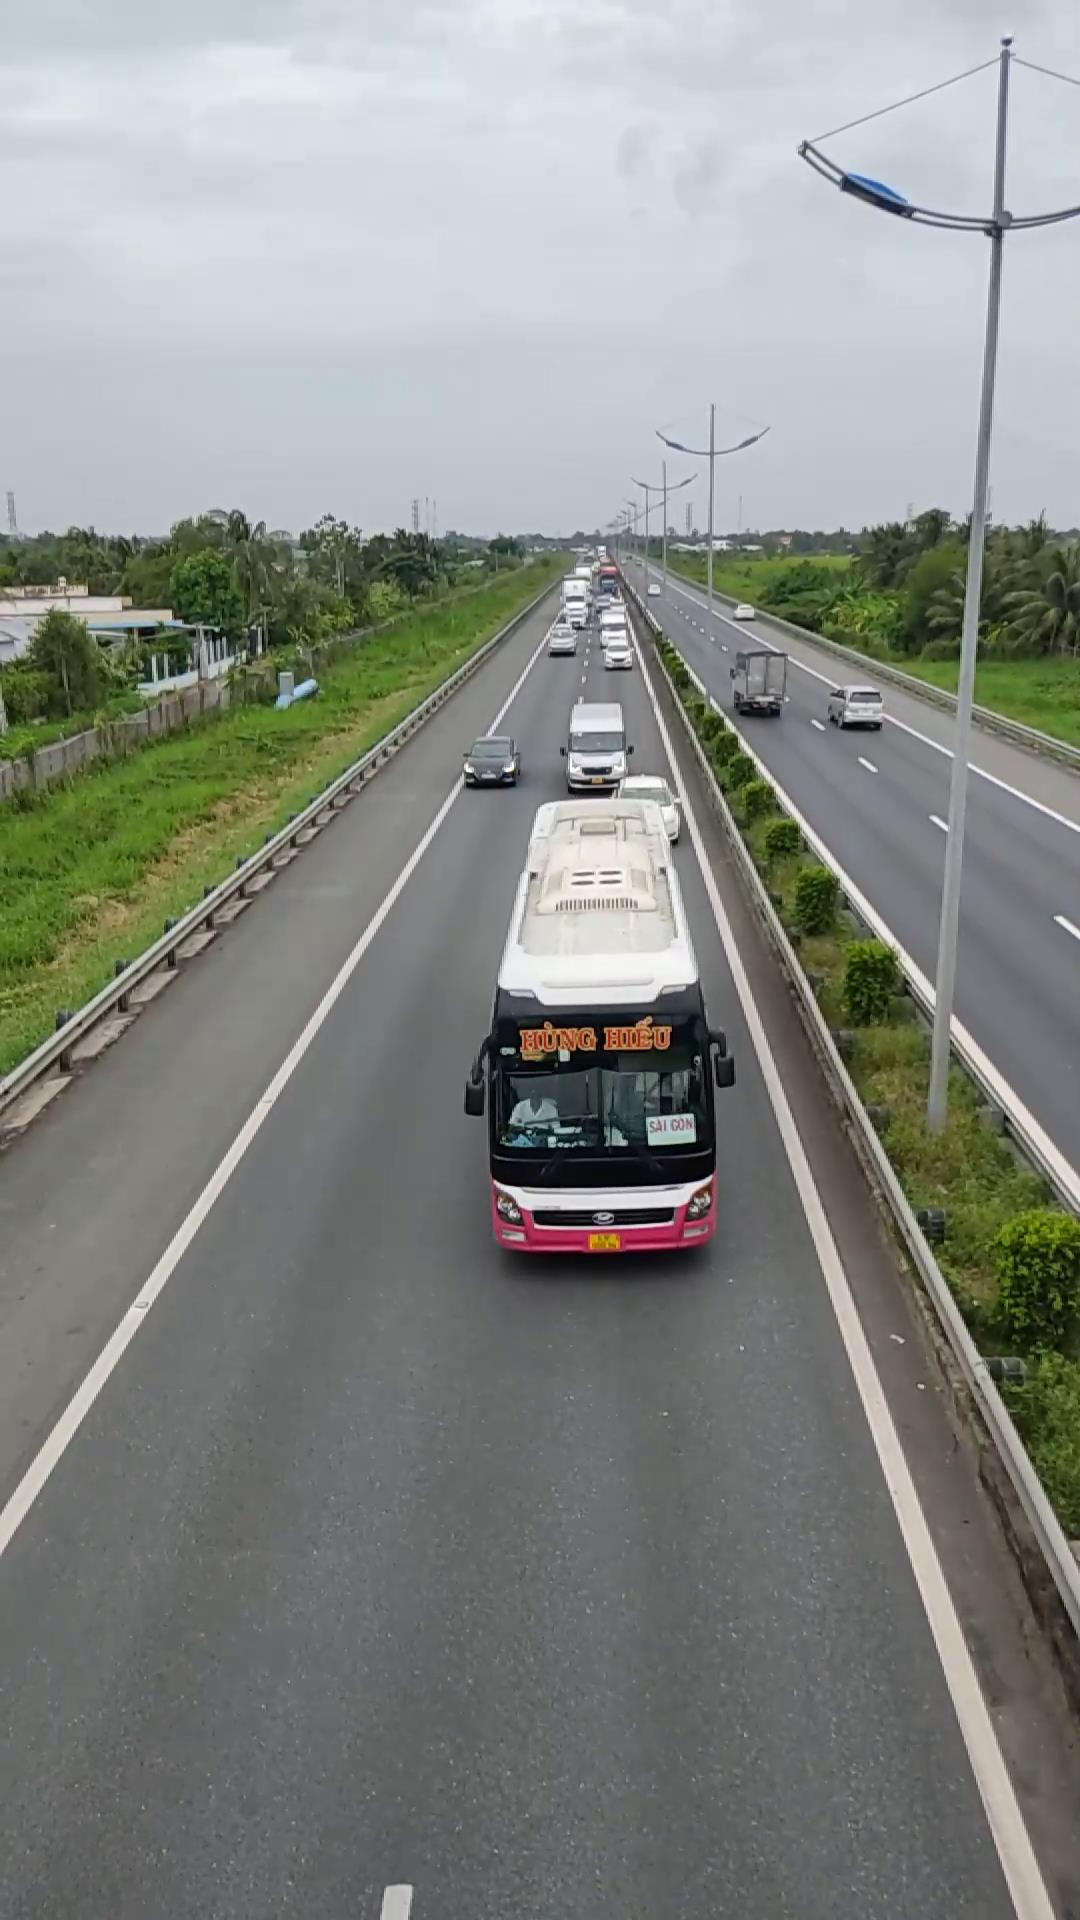bus: (465, 781, 731, 1261)
truck: (729, 644, 789, 713)
